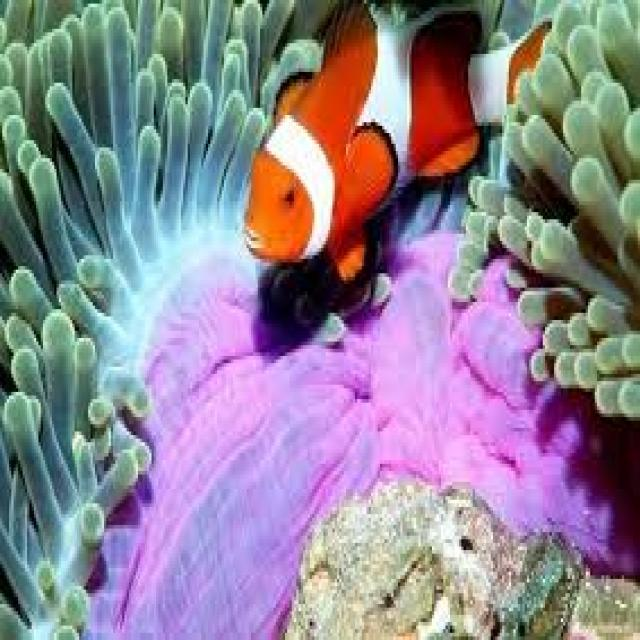Amphiprion-percula: (244, 3, 553, 316)
